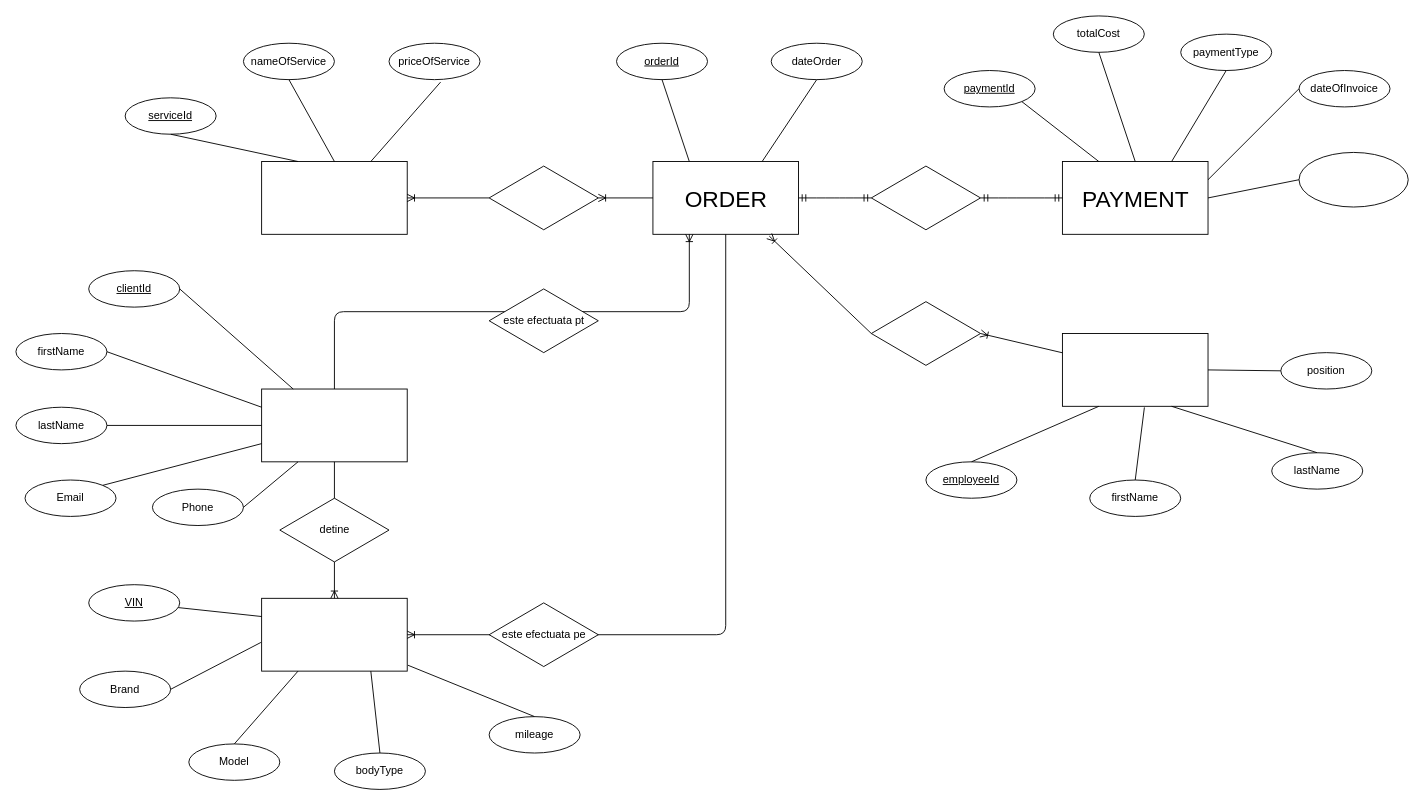
Image size: 1424x805. Some labels were removed from this diagram. Here are the shapes that lost their labels. From the top down, the box of each, then its label:
(261, 161, 407, 234): SERVICES
(488, 165, 598, 230): are
(870, 165, 981, 230): emisa pt
(1298, 152, 1408, 207): paymentRegistered
(870, 301, 981, 365): este executata
(1062, 333, 1208, 406): EMPLOYEE
(261, 388, 407, 462): CLIENT
(261, 597, 407, 671): CAR
